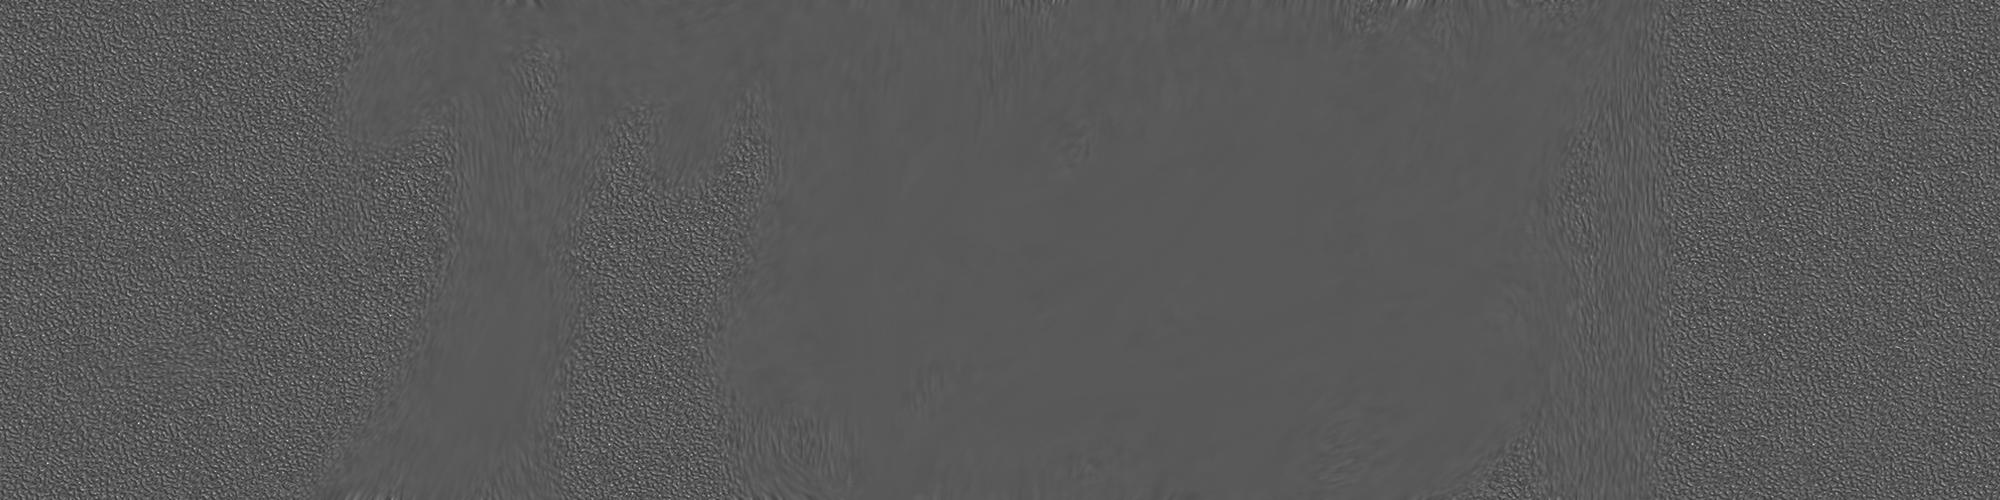Flow_Lines: (593, 6, 1648, 500), (325, 11, 591, 500)
